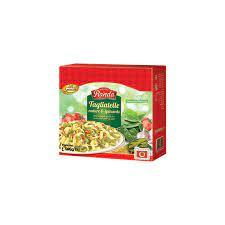Tagliatelle: (60, 68, 154, 161)
